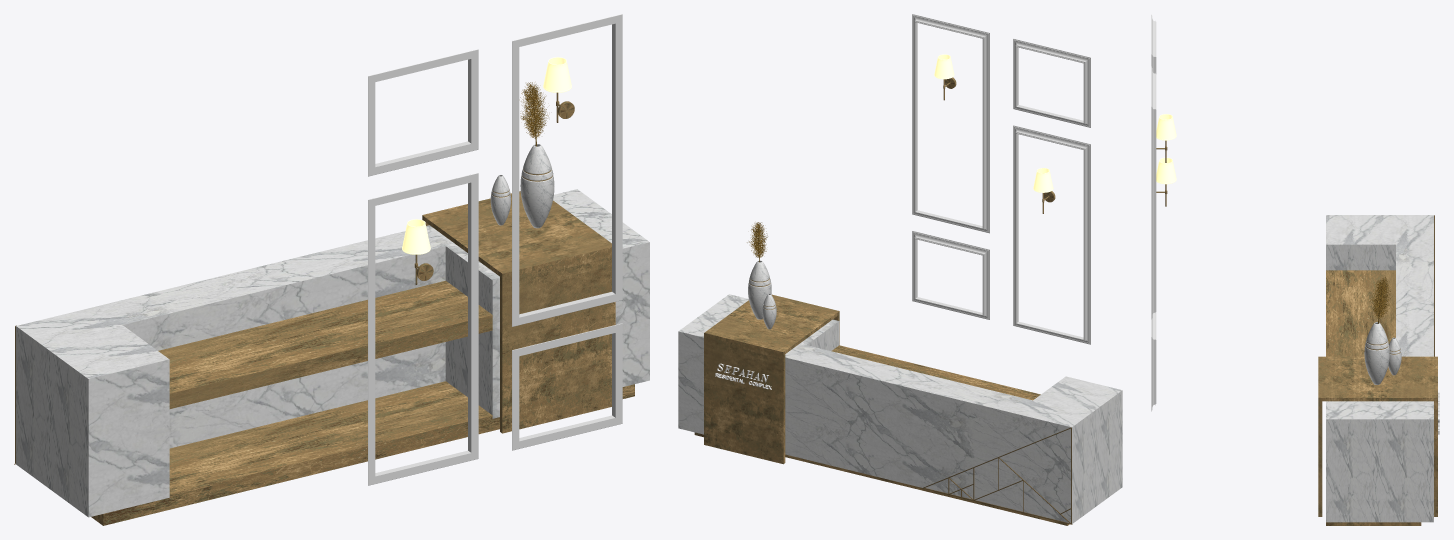
The model's file is lobby_design.glb.
3 views of the same model, side by side, from view 1: azimuth 30°, elevation 25°; view 2: azimuth 150°, elevation 25°; view 3: azimuth 270°, elevation 25° (orthographic). The views are drawn at different scales.
Visible parts, largest first — view 1: Line2062826412, Rectangle096, Group2132574848, Rectangle094, Rectangle095, Decorative_set_001_KD_3D_009, Decorative_set_001_KD_3D_016, Group2132574846, Group2132574847, Decorative_set_001_KD_3D_017; view 2: Line2062826412, Rectangle096, Group2132574848, Rectangle095, Line2062826413, Decorative_set_001_KD_3D_009, Rectangle094; view 3: Line2062826412, Rectangle096, Rectangle095, Group2132574848, Decorative_set_001_KD_3D_009, Decorative_set_001_KD_3D_016, Group2132574847, Group2132574846, Decorative_set_001_KD_3D_017, Rectangle094.
Boxes of the visible parts, x1=… form: Line2062826412: x1=16, y1=189, x2=649, y2=517; Rectangle096: x1=422, y1=191, x2=615, y2=433; Group2132574848: x1=368, y1=14, x2=622, y2=485; Rectangle094: x1=91, y1=381, x2=634, y2=525; Rectangle095: x1=158, y1=280, x2=492, y2=408; Decorative_set_001_KD_3D_009: x1=520, y1=144, x2=554, y2=228; Decorative_set_001_KD_3D_016: x1=520, y1=82, x2=548, y2=146; Group2132574846: x1=543, y1=57, x2=571, y2=92; Group2132574847: x1=402, y1=219, x2=430, y2=254; Decorative_set_001_KD_3D_017: x1=490, y1=175, x2=510, y2=225; Line2062826412: x1=678, y1=294, x2=1122, y2=523; Rectangle096: x1=704, y1=294, x2=839, y2=464; Group2132574848: x1=749, y1=14, x2=1090, y2=344; Rectangle095: x1=831, y1=345, x2=1040, y2=400; Line2062826413: x1=922, y1=427, x2=1072, y2=524; Decorative_set_001_KD_3D_009: x1=748, y1=260, x2=771, y2=319; Rectangle094: x1=694, y1=432, x2=1069, y2=525; Line2062826412: x1=1326, y1=215, x2=1433, y2=522; Rectangle096: x1=1318, y1=356, x2=1437, y2=516; Rectangle095: x1=1326, y1=270, x2=1395, y2=356; Group2132574848: x1=1151, y1=14, x2=1400, y2=411; Decorative_set_001_KD_3D_009: x1=1364, y1=322, x2=1389, y2=384; Decorative_set_001_KD_3D_016: x1=1369, y1=277, x2=1391, y2=323; Group2132574847: x1=1156, y1=157, x2=1176, y2=184; Group2132574846: x1=1156, y1=114, x2=1176, y2=140; Decorative_set_001_KD_3D_017: x1=1388, y1=337, x2=1401, y2=375; Rectangle094: x1=1326, y1=522, x2=1421, y2=525.
Bounding box in the file's own units: 3.81 × 3.23 × 2.27.
Materials: 7 (4 with a texture image).
